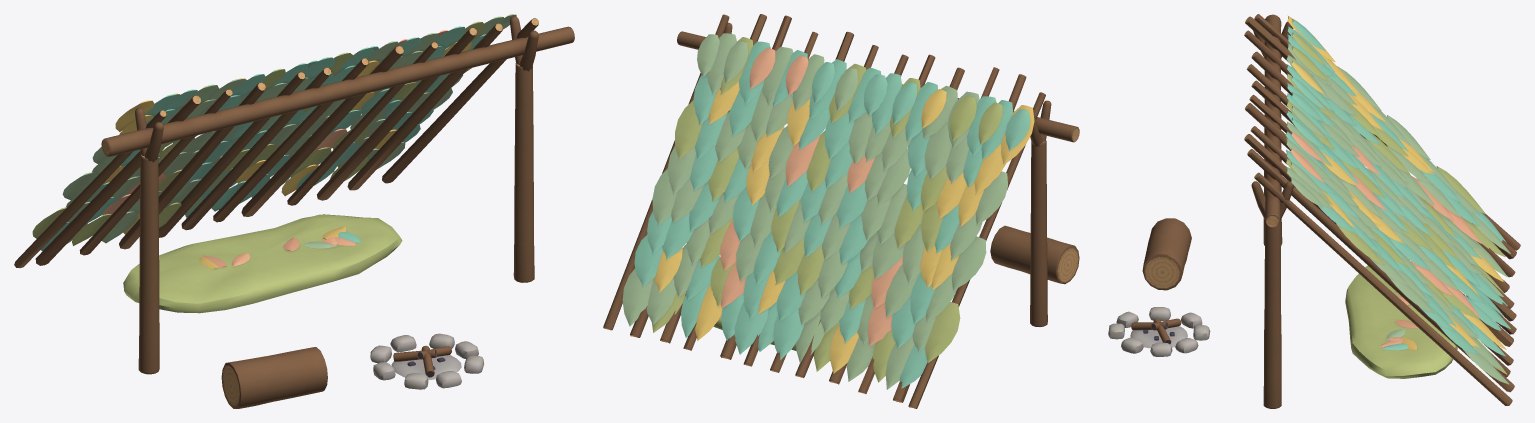
The model's file is lean-to-shelter.glb.
The picture shows the model from 3 angles, left to right: view 1: azimuth 30°, elevation 25°; view 2: azimuth 150°, elevation 25°; view 3: azimuth 270°, elevation 25°; orthographic projection. The views are drawn at different scales.
Parts seen in each view (by area): view 1: lean-to-shelter_body; view 2: lean-to-shelter_body; view 3: lean-to-shelter_body.
Part boxes in pixels (x1=…): lean-to-shelter_body: x1=14, y1=14, x2=574, y2=408; lean-to-shelter_body: x1=603, y1=14, x2=1079, y2=408; lean-to-shelter_body: x1=1108, y1=14, x2=1520, y2=408.
Size of the model in its own units: 2.78 by 1.58 by 2.43.
1 material, 1 textured.
